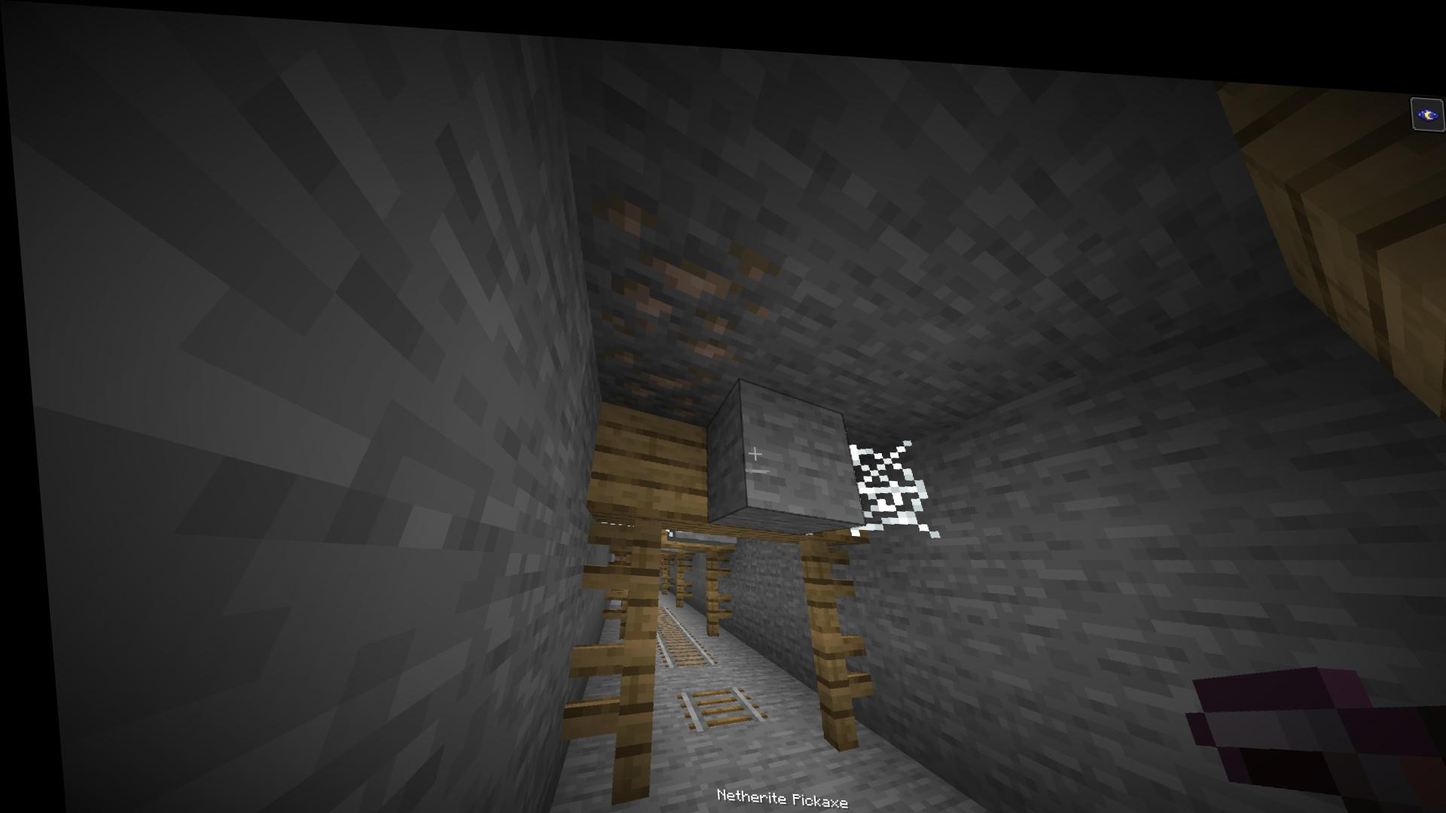iron ore: (578, 175, 777, 352), (584, 335, 725, 426)
